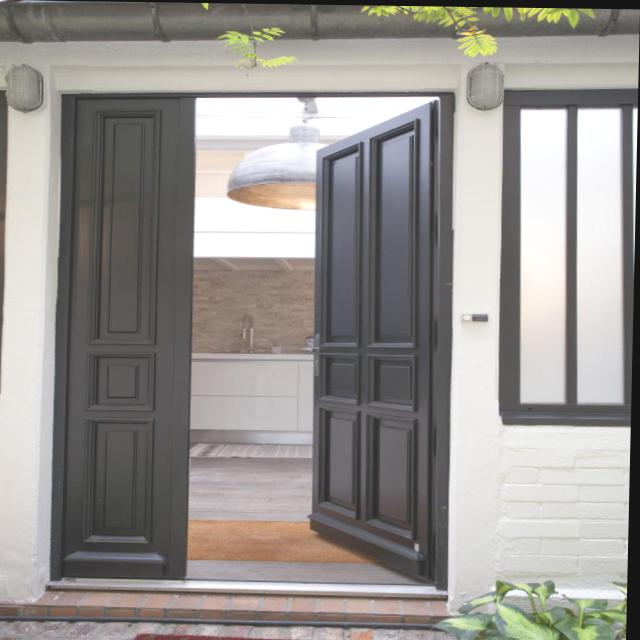semi-open: (163, 76, 468, 593)
